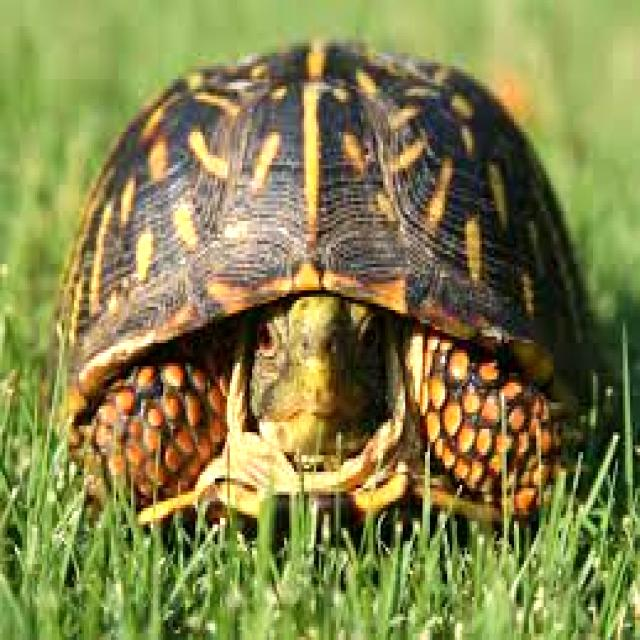Sea turtle: (50, 42, 631, 546)
